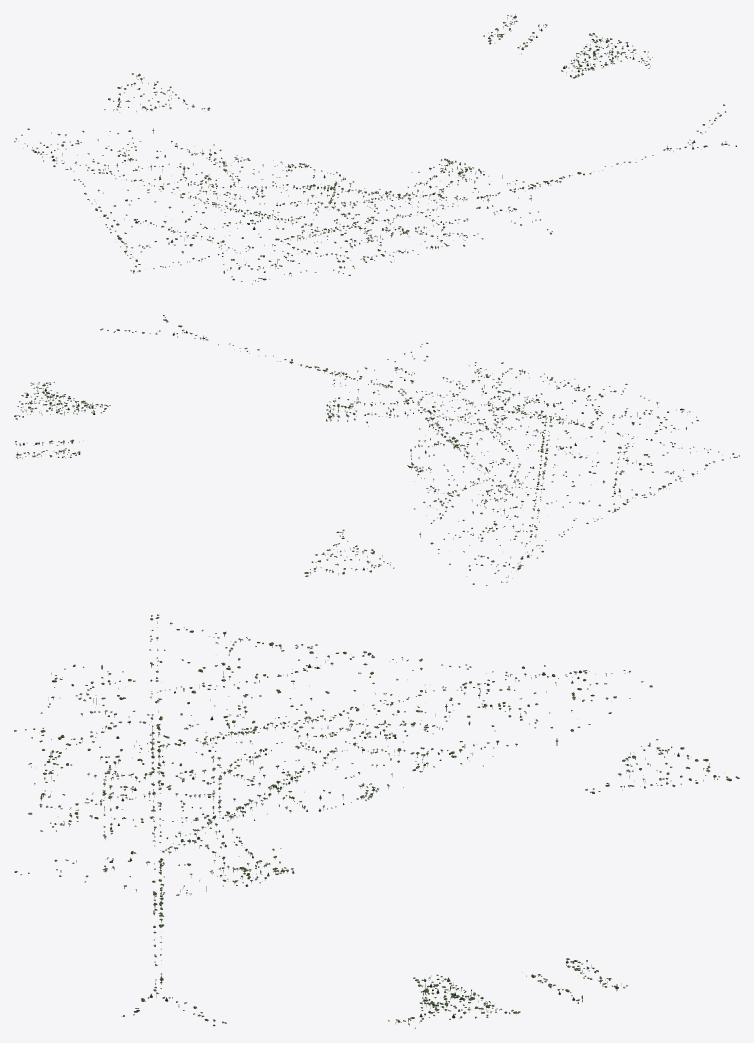
Rendered from barossa_backdrop_part2.glb.
The picture shows the model from 3 angles, top to bottom: view 1: azimuth 30°, elevation 25°; view 2: azimuth 150°, elevation 25°; view 3: azimuth 270°, elevation 25°; orthographic projection. The views are drawn at different scales.
Parts seen in each view (by area): view 1: bg_trees_joined; view 2: bg_trees_joined; view 3: bg_trees_joined.
Part boxes in pixels (left/top/right/bottom): bg_trees_joined: left=14, top=14, right=736, bottom=284; bg_trees_joined: left=14, top=315, right=739, bottom=585; bg_trees_joined: left=14, top=614, right=739, bottom=1028.
Bounding box in the file's own units: 2891 × 81.34 × 2194.
Materials: 1 (1 with a texture image).
